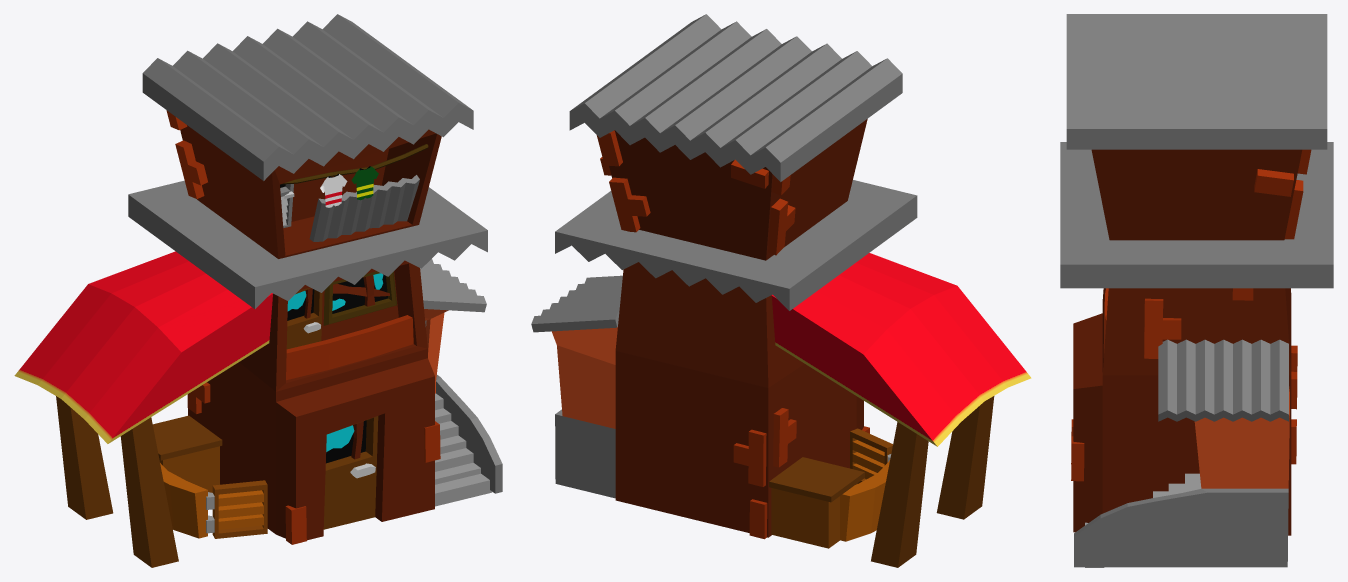
The model's file is fafelaPequena.fbx.
3 renders of one model, left to right at view 1: azimuth 30°, elevation 25°; view 2: azimuth 150°, elevation 25°; view 3: azimuth 270°, elevation 25°, orthographic. The views are drawn at different scales.
Visible parts, largest first — view 1: FAfelaEstuturaCasa; view 2: FAfelaEstuturaCasa; view 3: FAfelaEstuturaCasa.
Part boxes in pixels (x1=…): FAfelaEstuturaCasa: x1=14, y1=14, x2=502, y2=567; FAfelaEstuturaCasa: x1=531, y1=14, x2=1031, y2=567; FAfelaEstuturaCasa: x1=1060, y1=14, x2=1333, y2=567.
Bounding box in the file's own units: 790 × 750 × 424.
